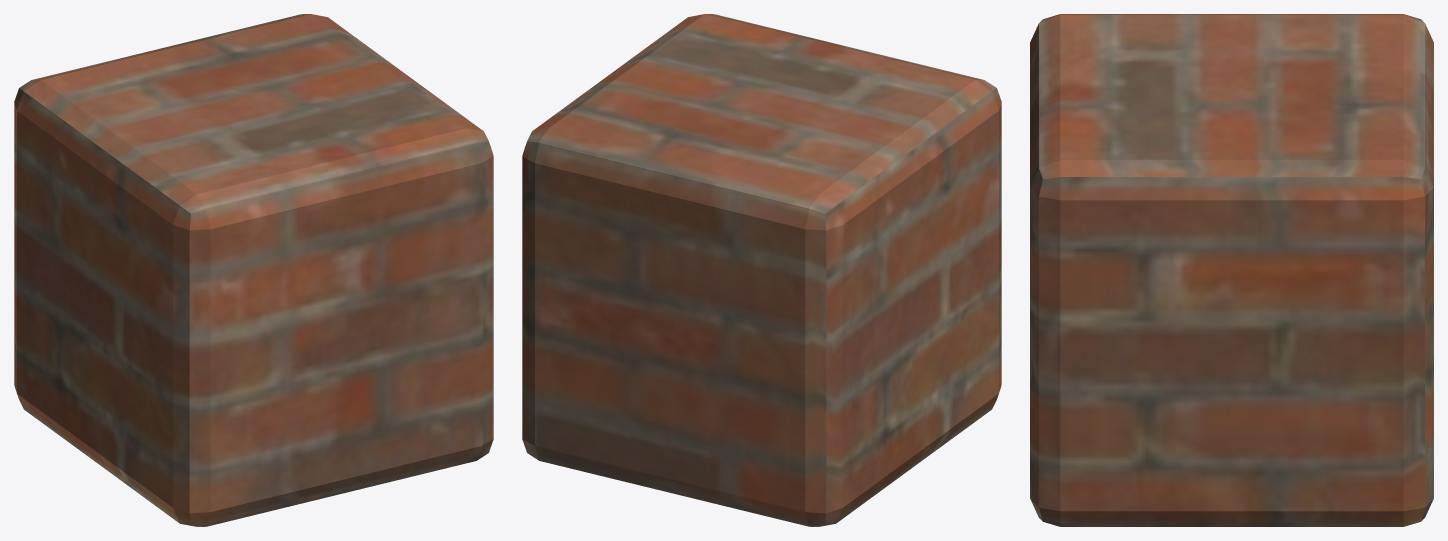
File: brick.fbx
The picture shows the model from 3 angles, left to right: view 1: azimuth 30°, elevation 25°; view 2: azimuth 150°, elevation 25°; view 3: azimuth 270°, elevation 25°; orthographic projection. The views are drawn at different scales.
Visible parts, largest first — view 1: pCube1; view 2: pCube1; view 3: pCube1.
Part boxes in pixels (x1=…): pCube1: x1=14, y1=14, x2=493, y2=526; pCube1: x1=522, y1=14, x2=1001, y2=526; pCube1: x1=1030, y1=14, x2=1433, y2=526.
Size of the model in its own units: 0.998 by 0.998 by 0.998.
Materials: 1 (1 with a texture image).
